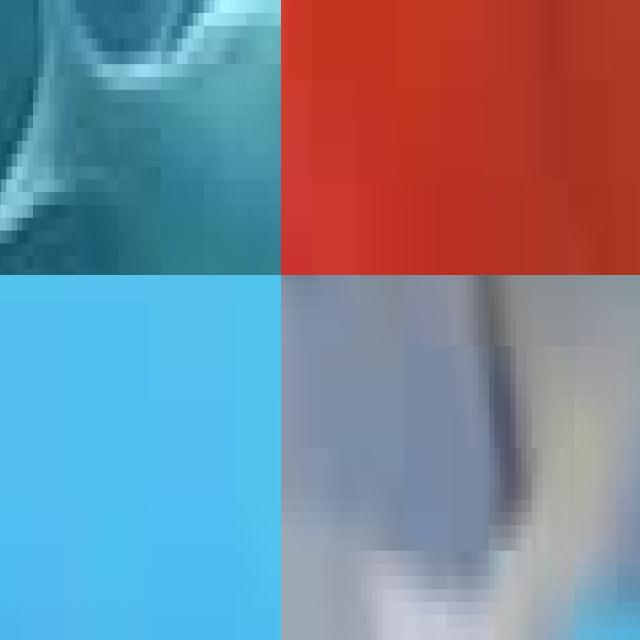fish: (281, 275, 640, 640), (0, 0, 281, 275)
